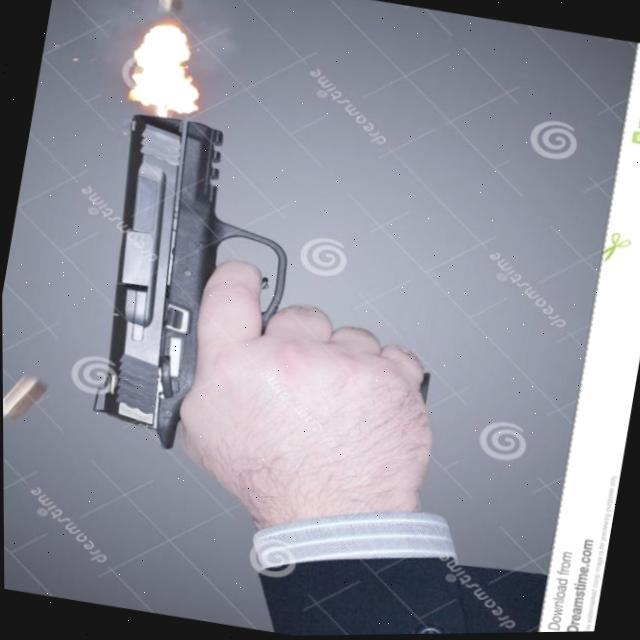gun: (84, 105, 456, 478), (84, 110, 272, 447)
